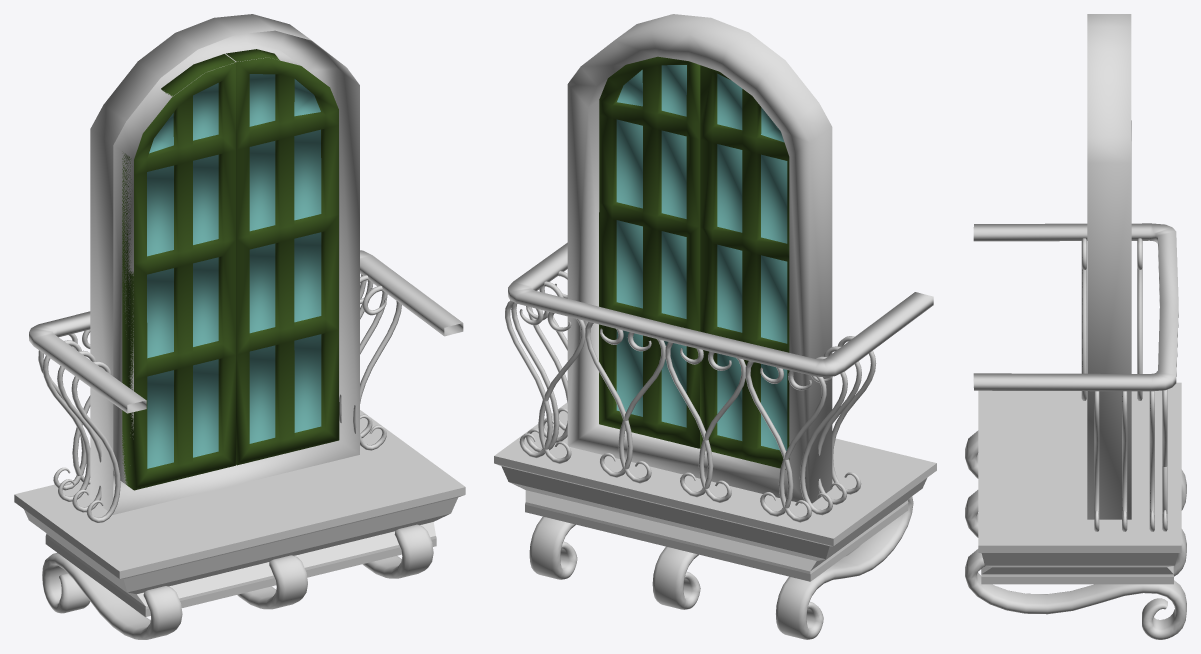
Rendered from Window_French.fbx.
The picture shows the model from 3 angles, left to right: view 1: azimuth 30°, elevation 25°; view 2: azimuth 150°, elevation 25°; view 3: azimuth 270°, elevation 25°; orthographic projection. The views are drawn at different scales.
Parts seen in each view (by area): view 1: WindowArch.003, Cube.004, WindowArch.002, BézierCurve.009, Bezier_Swirl_Flat.001; view 2: WindowArch.003, WindowArch.002, Cube.004, BézierCurve.009, Bezier_Swirl_Flat.001; view 3: Cube.004, WindowArch.002, BézierCurve.009, Bezier_Swirl_Flat.001.
Part boxes in pixels (x1,y1,x2,y2): WindowArch.003: (122,49,339,490); Cube.004: (14,410,465,616); WindowArch.002: (90,14,359,514); BézierCurve.009: (29,250,463,522); Bezier_Swirl_Flat.001: (42,524,433,639); WindowArch.003: (599,56,789,469); WindowArch.002: (567,14,832,503); Cube.004: (494,402,936,581); BézierCurve.009: (505,242,933,522); Bezier_Swirl_Flat.001: (529,496,913,639); Cube.004: (978,382,1181,584); WindowArch.002: (1087,14,1131,519); BézierCurve.009: (973,223,1178,531); Bezier_Swirl_Flat.001: (965,430,1186,639).
Bounding box in the file's own units: 1.24 × 0.7101 × 1.95.
